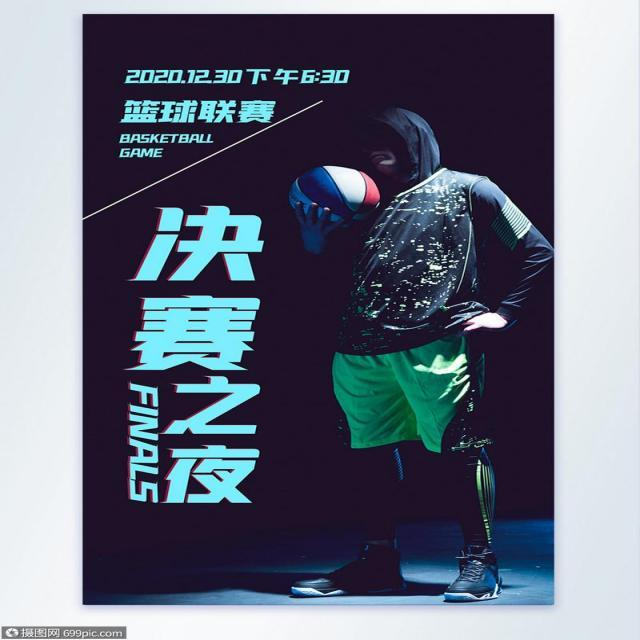rim: (289, 164, 377, 228)
